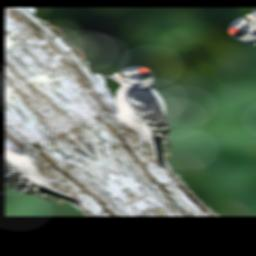Woodpecker: (72, 57, 226, 173)
